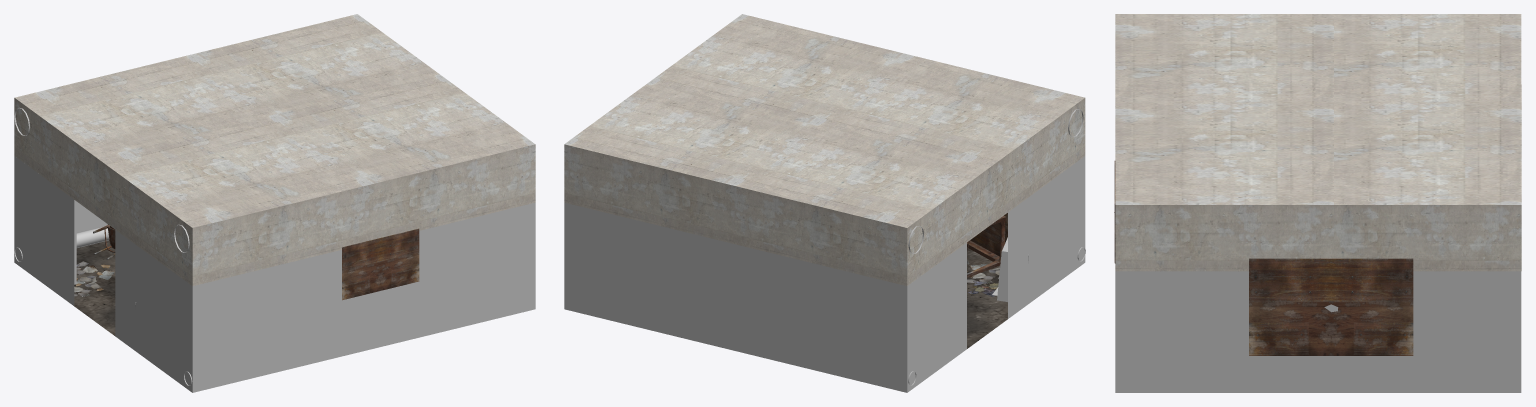
Rendered from Staff_room.FBX.
The picture shows the model from 3 angles, left to right: view 1: azimuth 30°, elevation 25°; view 2: azimuth 150°, elevation 25°; view 3: azimuth 270°, elevation 25°; orthographic projection. The views are drawn at different scales.
Parts seen in each view (by area): view 1: Tech_room_cell, Tech_room_wall, Map002, Tech_room_floor, Tube001, Paper_decal010; view 2: Tech_room_cell, Tech_room_wall, Tech_room_floor, Stol_002, Shkaf003; view 3: Tech_room_cell, Tech_room_wall, Map.
Part boxes in pixels (x1,y1,x2,y2): Tech_room_cell: [14, 14, 535, 286]; Tech_room_wall: [14, 156, 535, 392]; Map002: [342, 228, 419, 300]; Tech_room_floor: [74, 240, 115, 335]; Tube001: [14, 226, 109, 261]; Paper_decal010: [76, 261, 114, 281]; Tech_room_cell: [564, 14, 1085, 285]; Tech_room_wall: [564, 156, 1085, 392]; Tech_room_floor: [967, 247, 1007, 348]; Stol_002: [967, 213, 1007, 277]; Shkaf003: [992, 237, 1028, 301]; Tech_room_cell: [1115, 14, 1521, 271]; Tech_room_wall: [1115, 271, 1521, 392]; Map: [1249, 258, 1413, 355].
Size of the model in its own units: 812 by 373 by 728.
